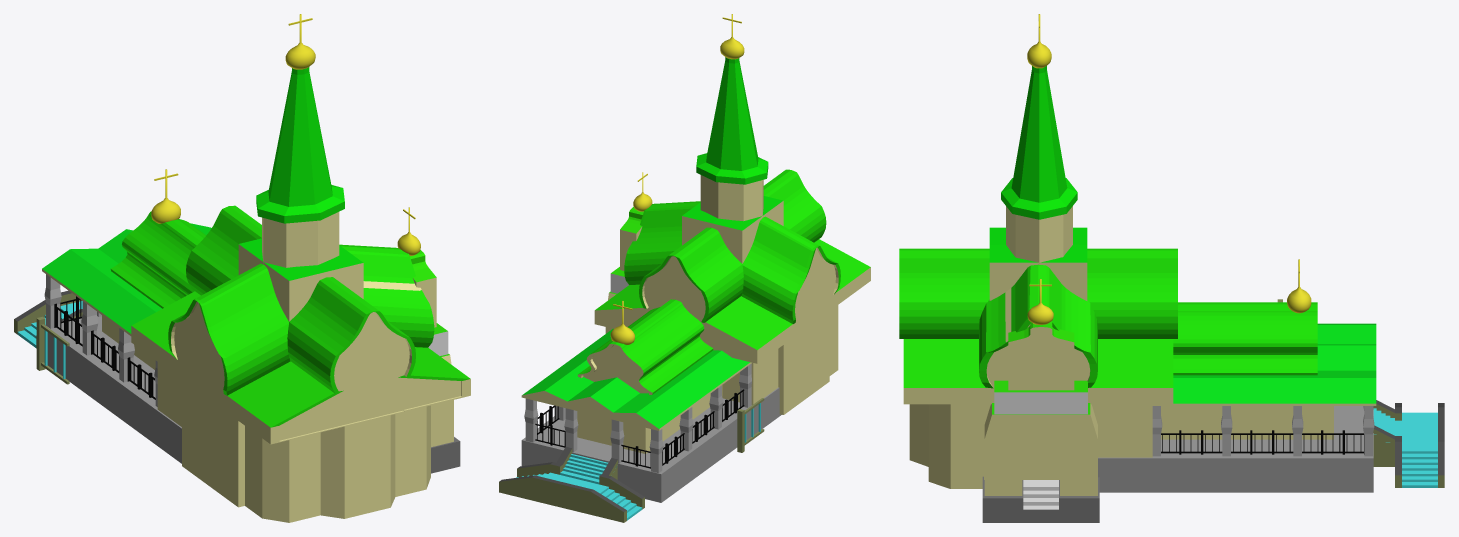
File: church.fbx
3 renders of one model, left to right at view 1: azimuth 30°, elevation 25°; view 2: azimuth 150°, elevation 25°; view 3: azimuth 270°, elevation 25°, orthographic. The views are drawn at different scales.
Parts seen in each view (by area): view 1: roof.001, Cube, Cylinder, Cube.001, roof, roof1, roof.002, pristroika, stairs, fence, Cube.012, krest (+4 smaller); view 2: roof.001, roof, Cube.001, Cube, Cylinder, roof1, stairs, roof.002, pristroika, fence, Cube.006, Cube.011 (+7 smaller); view 3: roof.001, Cube, pristroika, Cube.001, roof1, roof, Cylinder, stairs, Cube.012, roof.002.
Boxes of the visible parts, box(x1,y1,x2,y2) form: roof.001: box(131, 205, 470, 444); Cube: box(102, 315, 430, 522); Cylinder: box(256, 67, 344, 267); Cube.001: box(45, 316, 181, 463); roof: box(42, 223, 211, 335); roof1: box(110, 211, 205, 308); roof.002: box(238, 238, 363, 321); pristroika: box(410, 250, 453, 447); stairs: box(14, 290, 82, 348); fence: box(36, 316, 69, 384); Cube.012: box(431, 437, 460, 473); krest: box(285, 14, 315, 69); roof.001: box(594, 169, 870, 363); roof: box(521, 328, 751, 430); Cube.001: box(521, 387, 781, 502); Cube: box(577, 305, 838, 453); Cylinder: box(696, 57, 768, 221); roof1: box(577, 299, 713, 394); stairs: box(499, 447, 644, 522); roof.002: box(682, 196, 783, 263); pristroika: box(605, 207, 643, 333); fence: box(737, 398, 764, 452); Cube.006: box(649, 429, 663, 473); Cube.011: box(564, 408, 578, 452); roof.001: box(899, 248, 1177, 404); Cube: box(909, 404, 1333, 488); pristroika: box(984, 321, 1097, 495); Cube.001: box(1098, 406, 1373, 492); roof1: box(1173, 302, 1317, 375); roof: box(1150, 323, 1376, 405); Cylinder: box(1001, 66, 1077, 264); stairs: box(1373, 400, 1444, 487); Cube.012: box(982, 476, 1099, 522); roof.002: box(989, 227, 1087, 300).
Size of the model in its own units: 2214 by 3646 by 4032.
